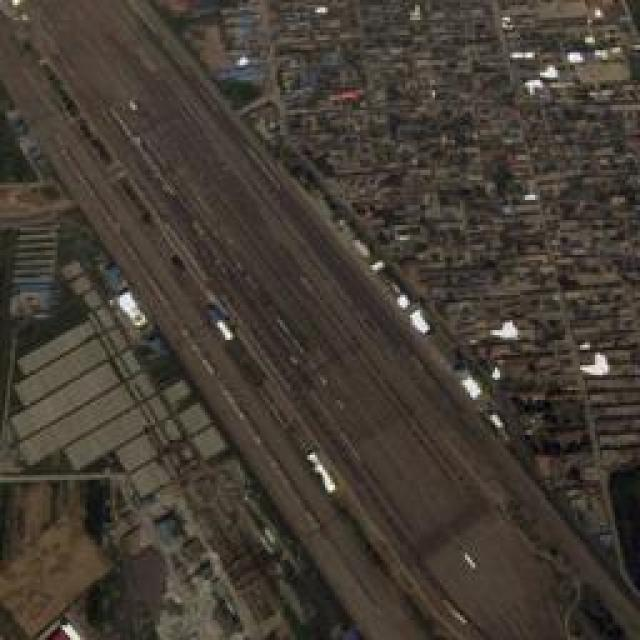City: (0, 0, 638, 638)
Highway: (5, 0, 639, 640)
